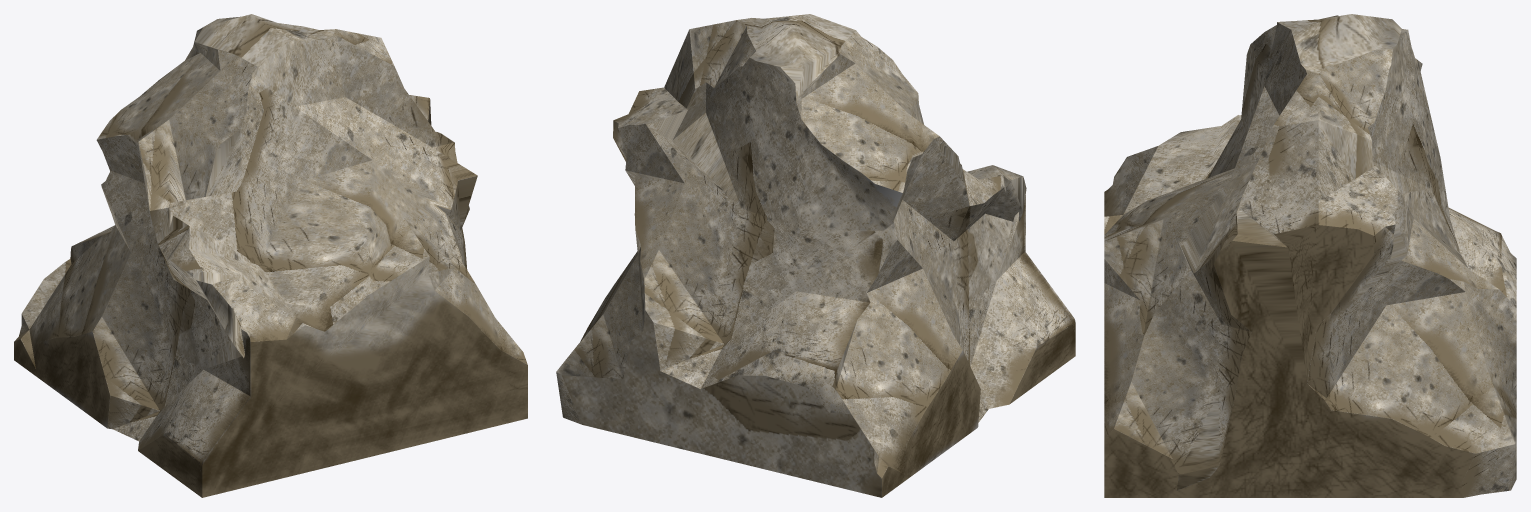
The model's file is Rock.fbx.
3 renders of one model, left to right at view 1: azimuth 30°, elevation 25°; view 2: azimuth 150°, elevation 25°; view 3: azimuth 270°, elevation 25°, orthographic. The views are drawn at different scales.
Parts seen in each view (by area): view 1: polySurface2; view 2: polySurface2; view 3: polySurface2.
Part boxes in pixels (x1,y1,x2,y2): polySurface2: [14, 14, 527, 497]; polySurface2: [556, 14, 1075, 497]; polySurface2: [1104, 14, 1516, 497].
Size of the model in its own units: 74.17 by 77.82 by 73.3.
1 material, 1 textured.
